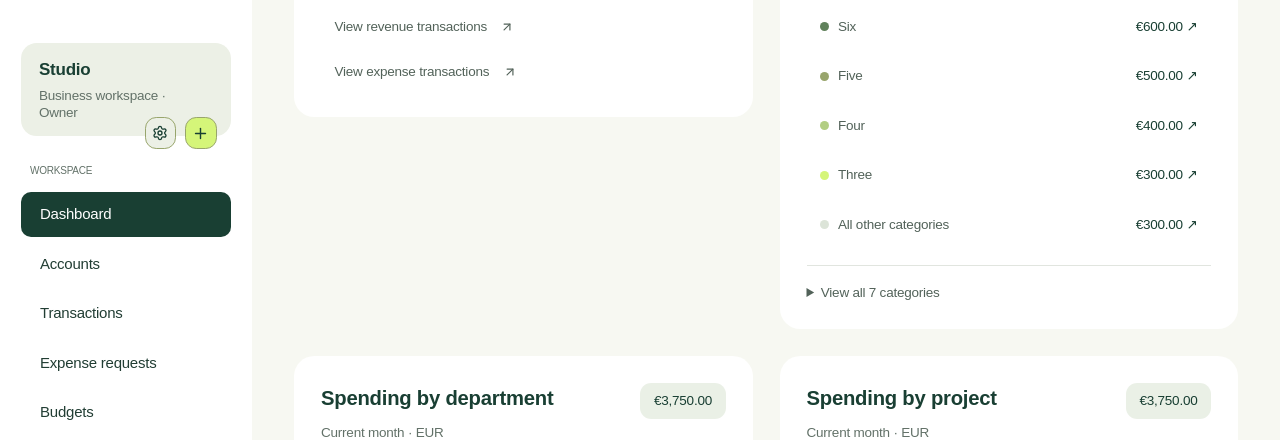
Scenario: includes every spending group when the chart combines smaller categories
(page scrolled)
Expected: the list item "All other categories €300.00 ↗" is shown, [806,207,1211,243]
Click the heading "View all 7 categories" at (880, 292), box [821,285,940,300]
(page scrolled)
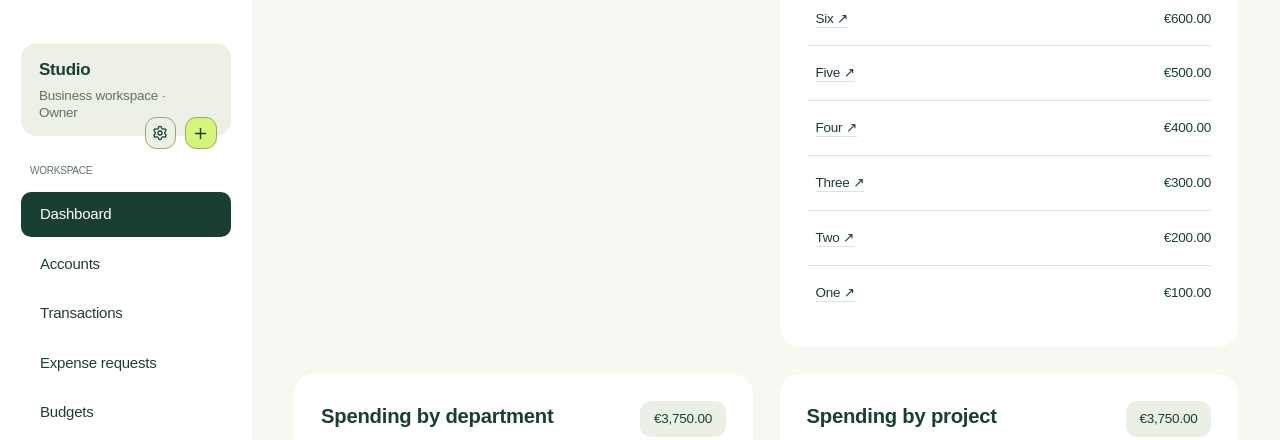
Now the row "One ↗ €100.00" is shown, box [806,266,1211,320]
